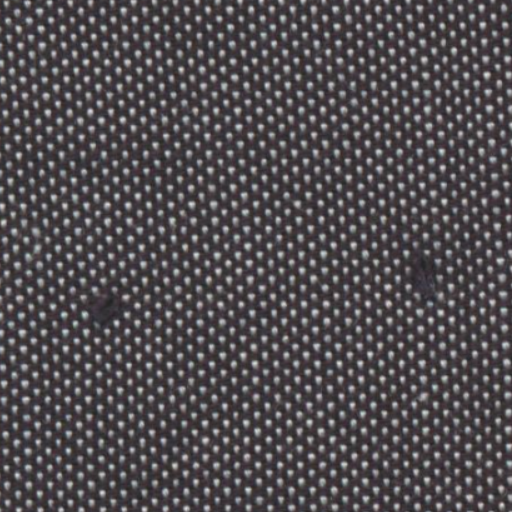MianQiu: (58, 268, 152, 358), (385, 230, 456, 314)
